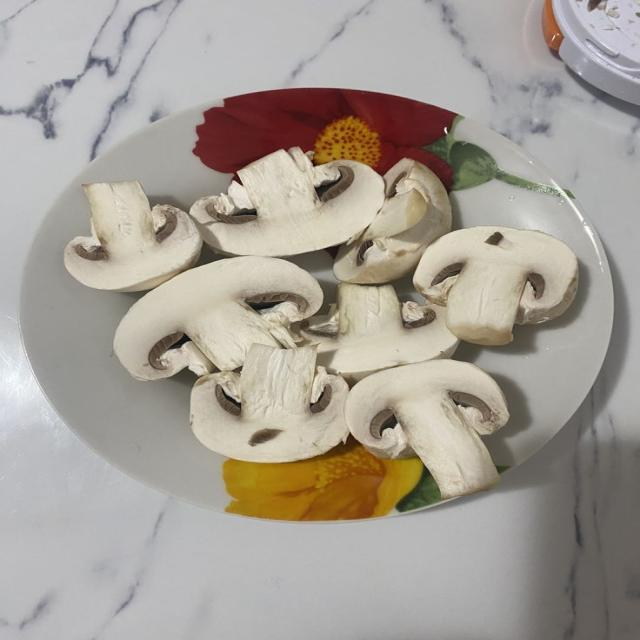champignon mushrooms: (114, 257, 322, 379), (346, 360, 508, 498), (190, 148, 384, 256), (414, 227, 578, 345), (191, 345, 348, 462), (300, 283, 458, 382), (64, 181, 201, 291), (334, 159, 451, 283)
